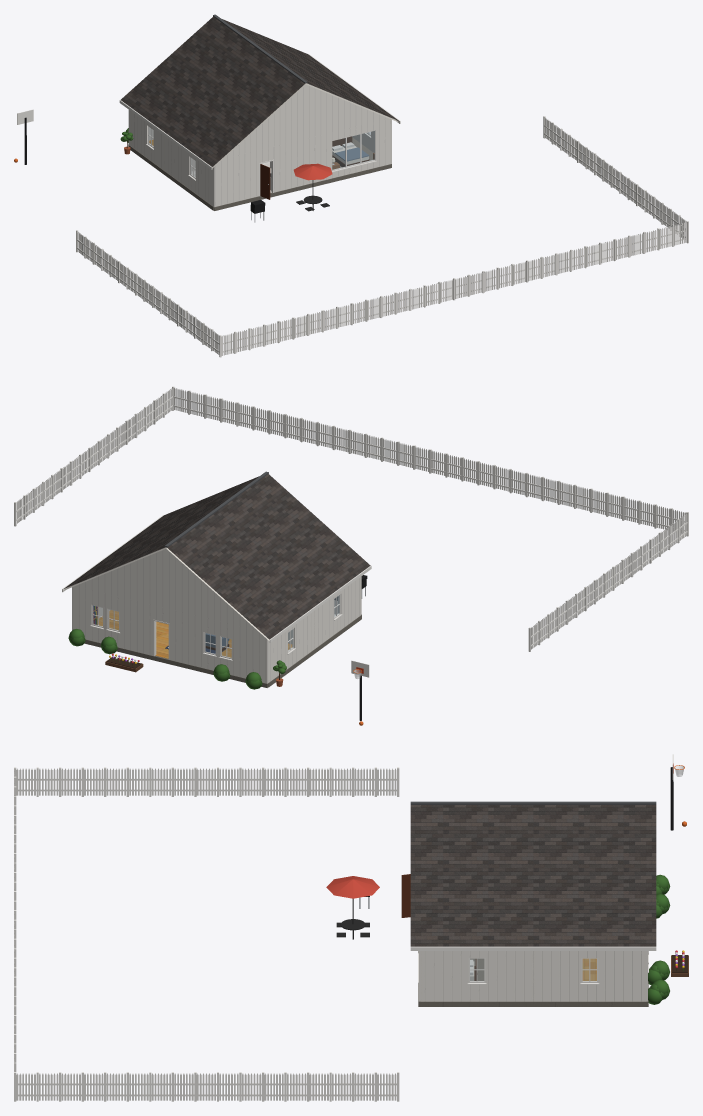
The model's file is house_S7.glb.
3 renders of one model, top to bottom at view 1: azimuth 30°, elevation 25°; view 2: azimuth 150°, elevation 25°; view 3: azimuth 270°, elevation 25°, orthographic. The views are drawn at different scales.
Parts seen in each view (by area): view 1: house_S7; view 2: house_S7; view 3: house_S7.
Boxes of the visible parts, bbox=[...] form: house_S7: bbox=[14, 14, 688, 357]; house_S7: bbox=[14, 386, 688, 725]; house_S7: bbox=[14, 754, 688, 1101].
Size of the model in its own units: 32.1 by 7.24 by 29.95.
52 materials, 8 textured.
